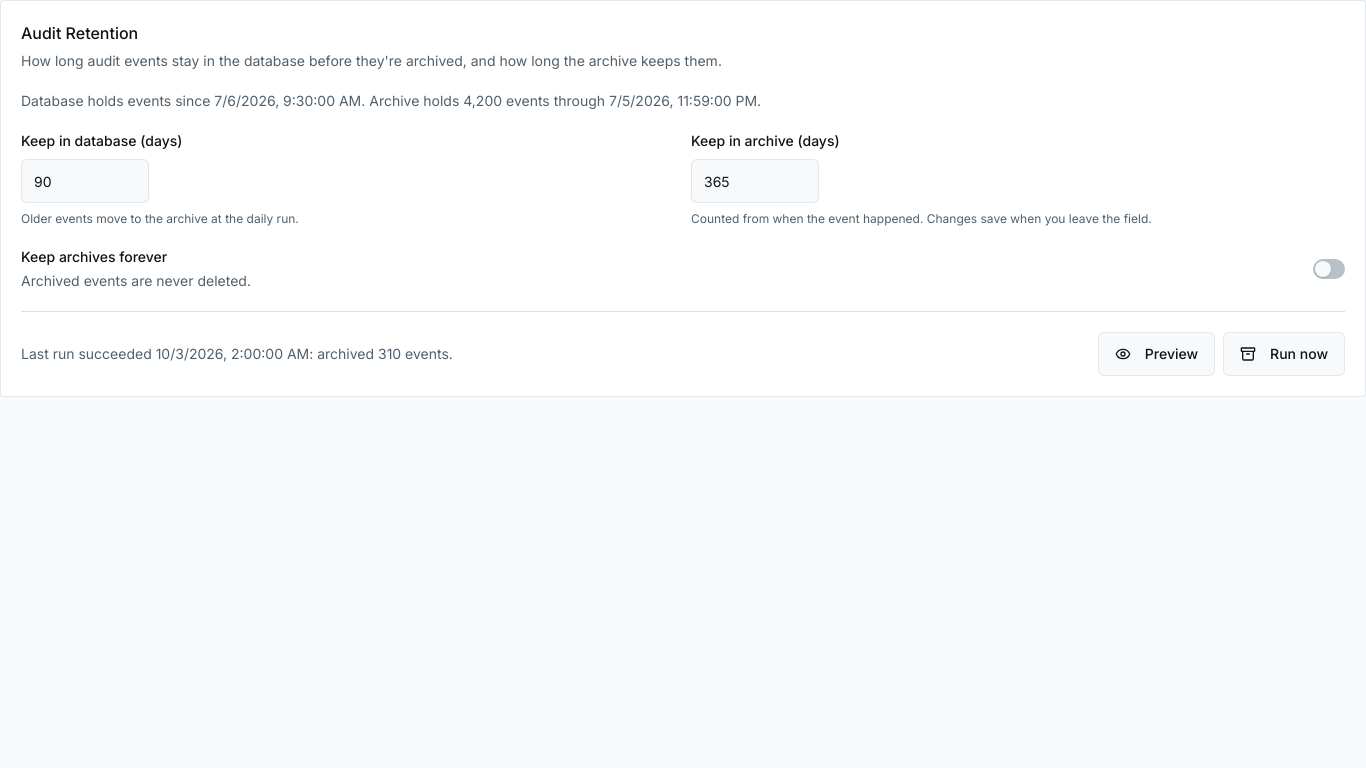
Test: AuditRetentionSettings › returns focus to the archive field when shortening is cancelled
Expected: the number field labelled "Keep in database (days)" is enabled, [21,159,149,203]
Step 1. Replace the text in the number field labelled "Keep in archive (days)" with "180" → (755, 181), box [691,159,819,203]
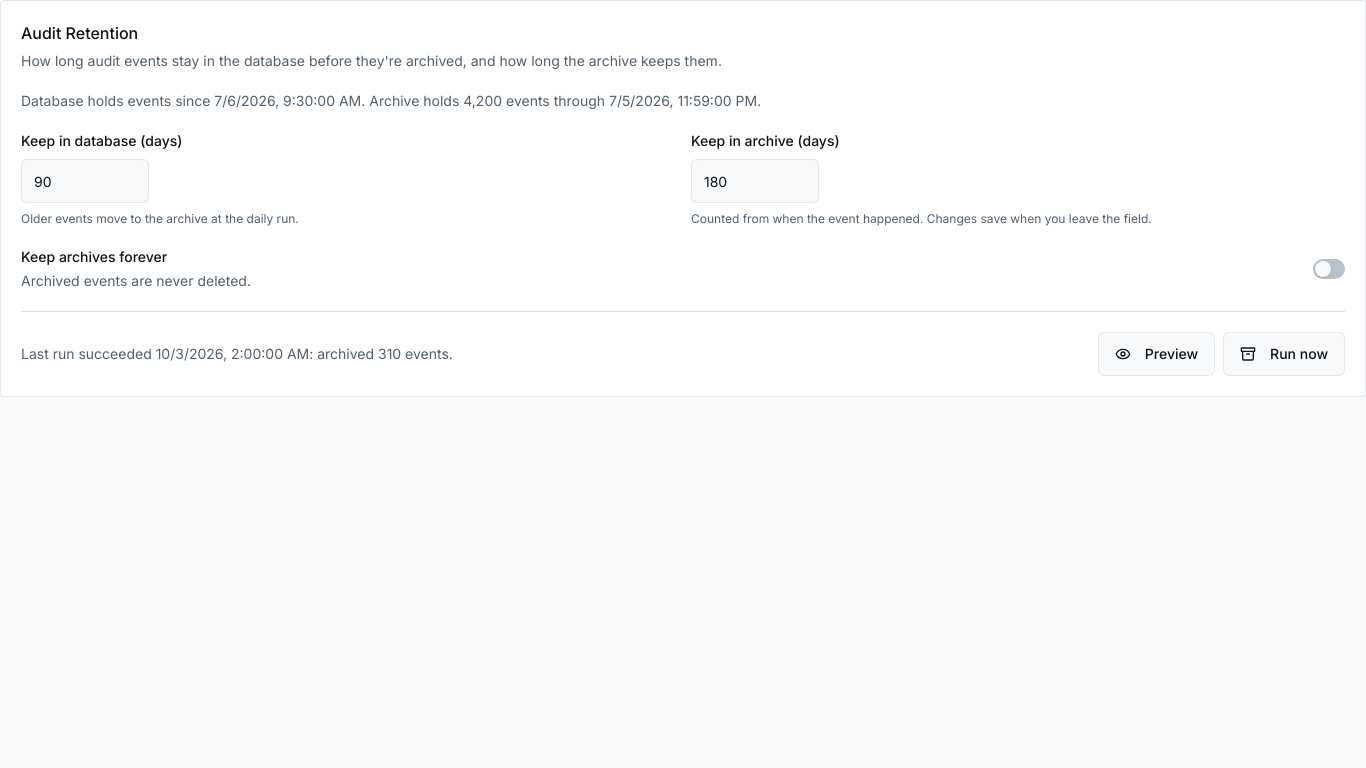
Step 2. Leave the number field labelled "Keep in archive (days)", box [691,159,819,203]
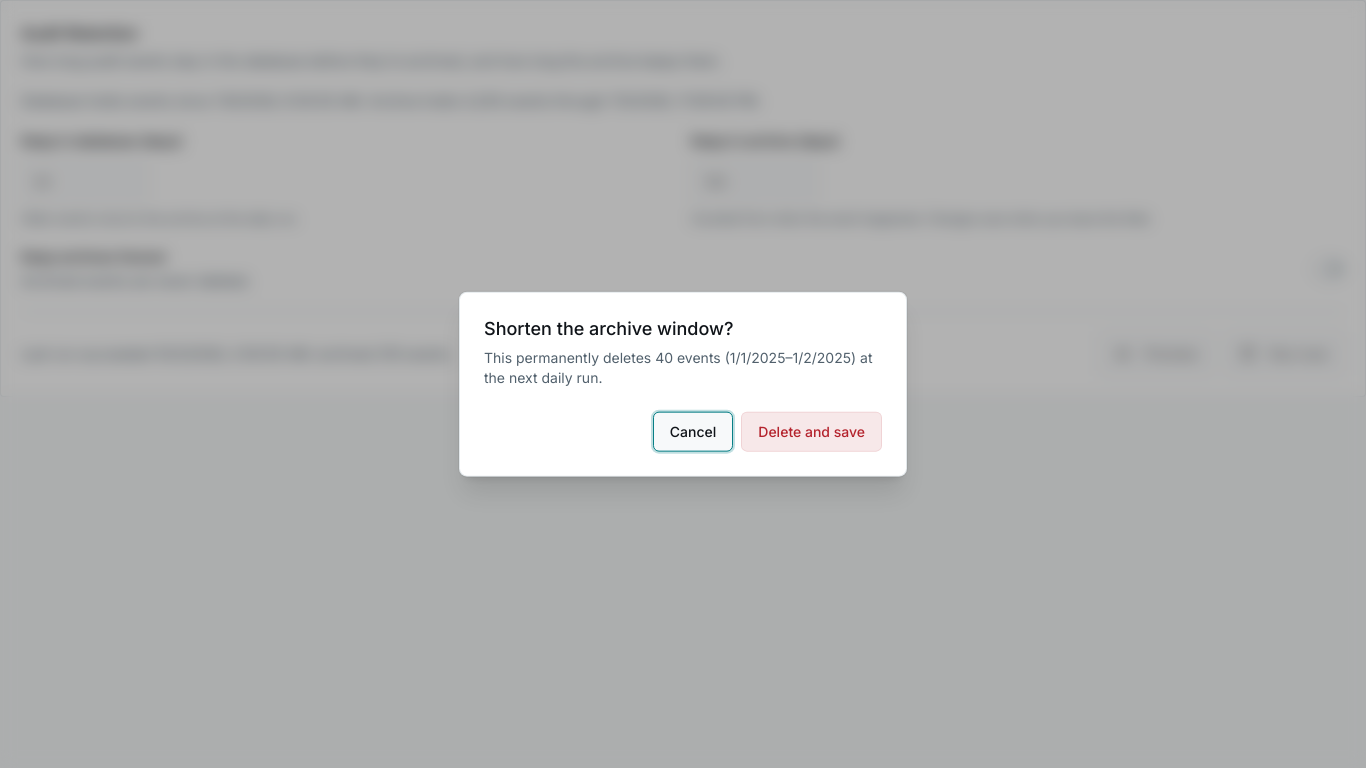
Now the dialog is shown, box [459,292,907,476]
Step 3. Click the button "Cancel" → (693, 431), box [653,411,733,451]
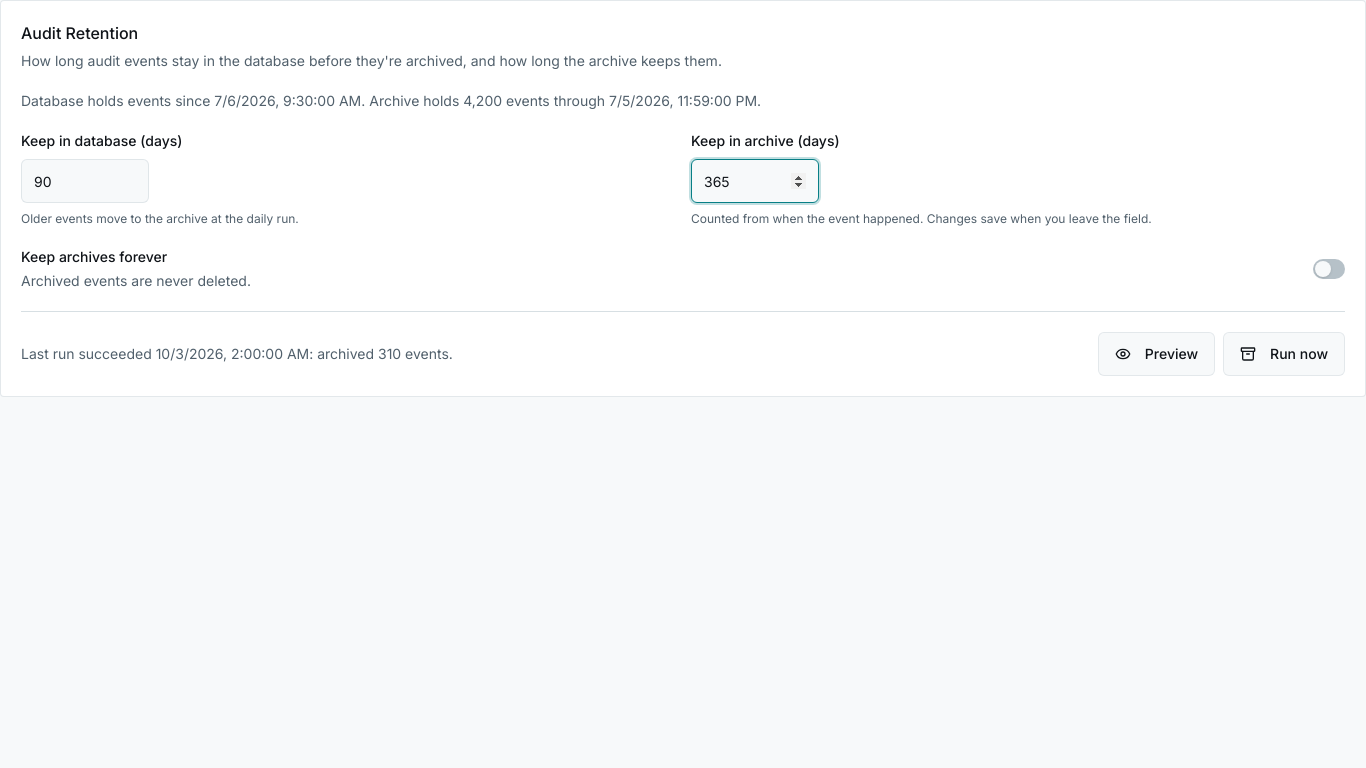
Now the number field labelled "Keep in archive (days)" holds "365", box [691,159,819,203]
